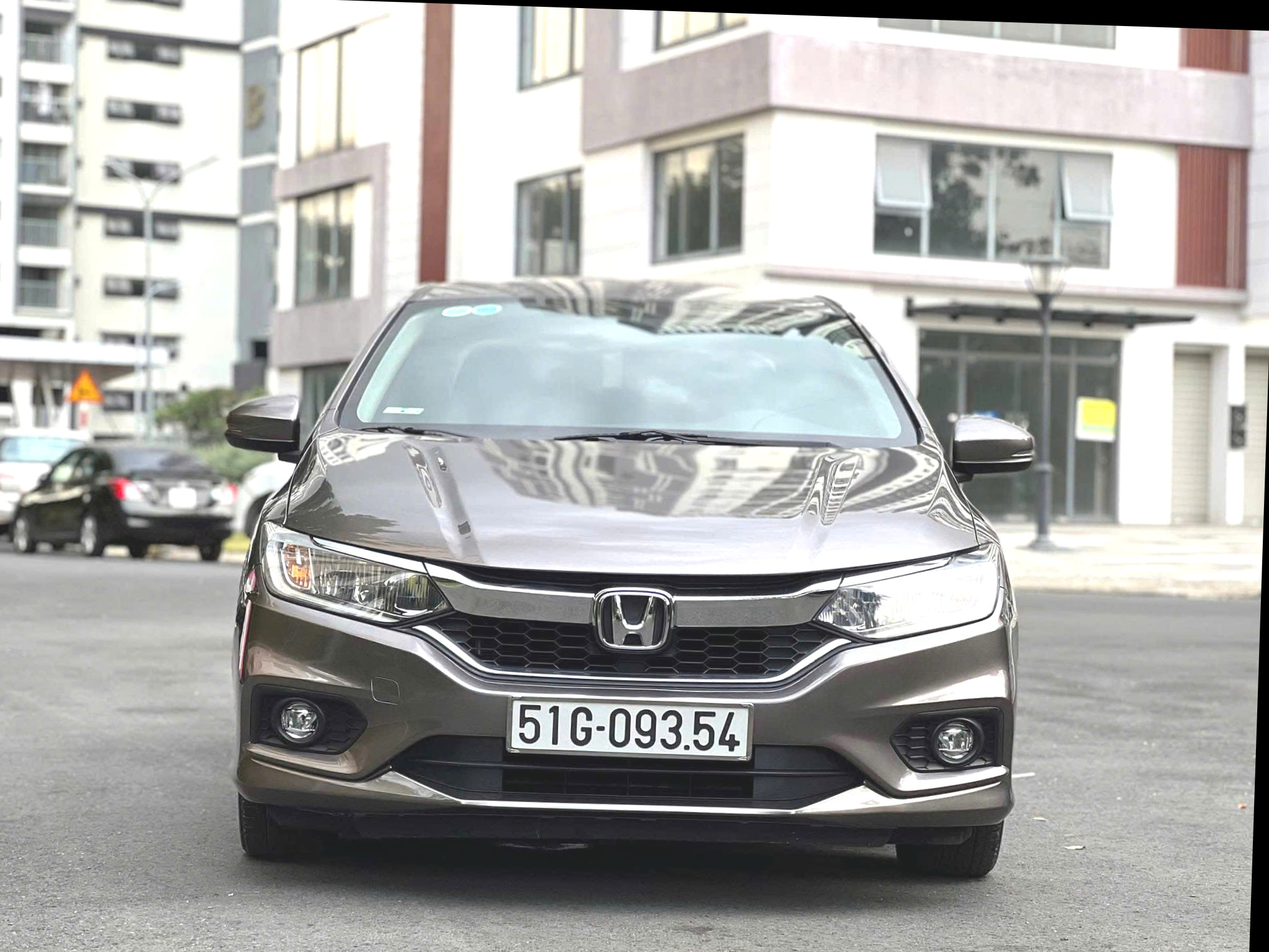Bien-so: (517, 660, 742, 739)
